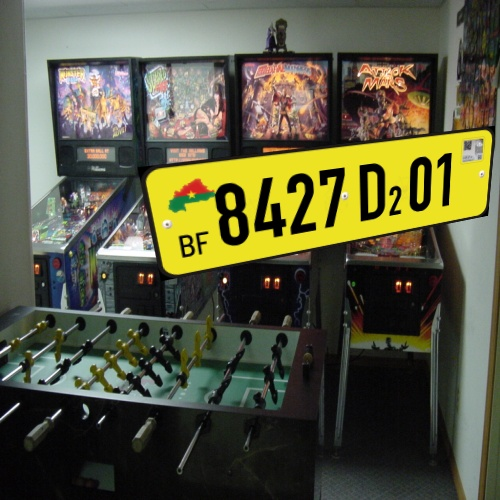plate: (121, 124, 500, 290)
